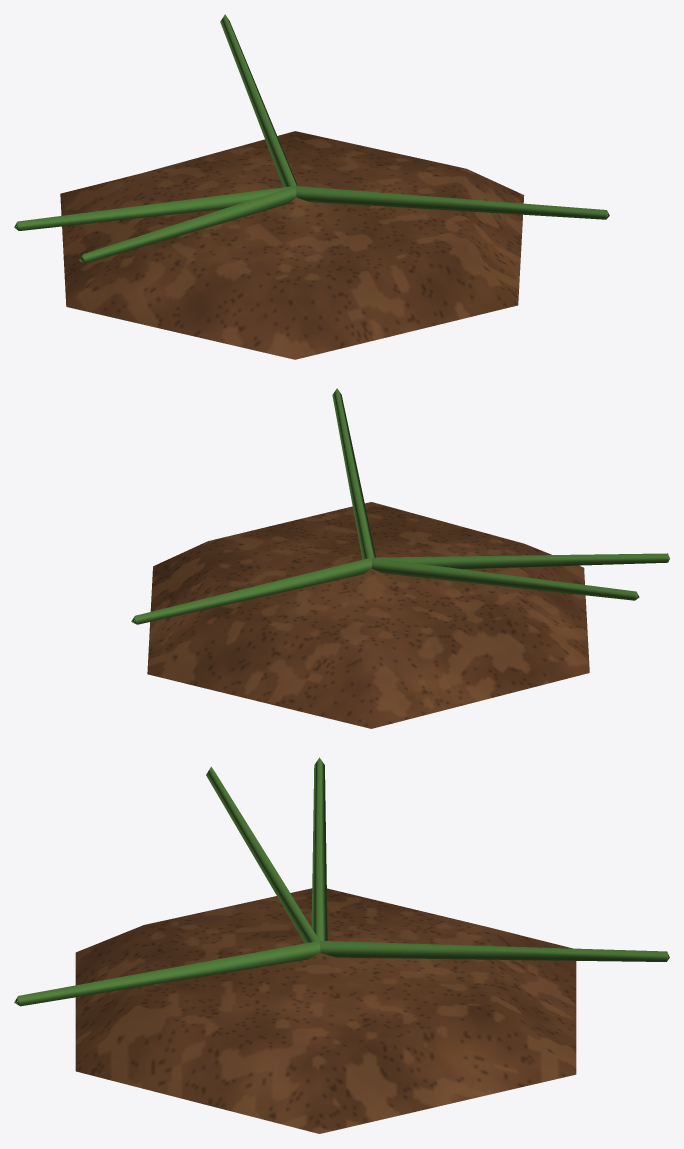
The model's file is plant-pumpkin-2-far.glb.
3 views of the same model, one above another, from view 1: azimuth 30°, elevation 25°; view 2: azimuth 150°, elevation 25°; view 3: azimuth 270°, elevation 25° (orthographic). The views are drawn at different scales.
Parts seen in each view (by area): view 1: plant-pumpkin-2-far; view 2: plant-pumpkin-2-far; view 3: plant-pumpkin-2-far.
Part boxes in pixels (left/top/right/bottom): plant-pumpkin-2-far: left=14, top=14, right=609, bottom=359; plant-pumpkin-2-far: left=131, top=388, right=669, bottom=728; plant-pumpkin-2-far: left=14, top=757, right=669, bottom=1133.
Bounding box in the file's own units: 1.2 × 0.1744 × 0.9533.
3 materials, 1 textured.
